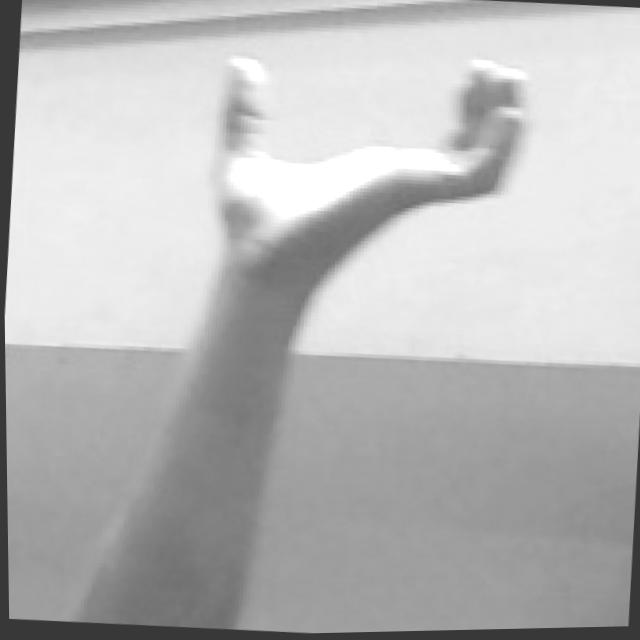space: (206, 32, 536, 262)
